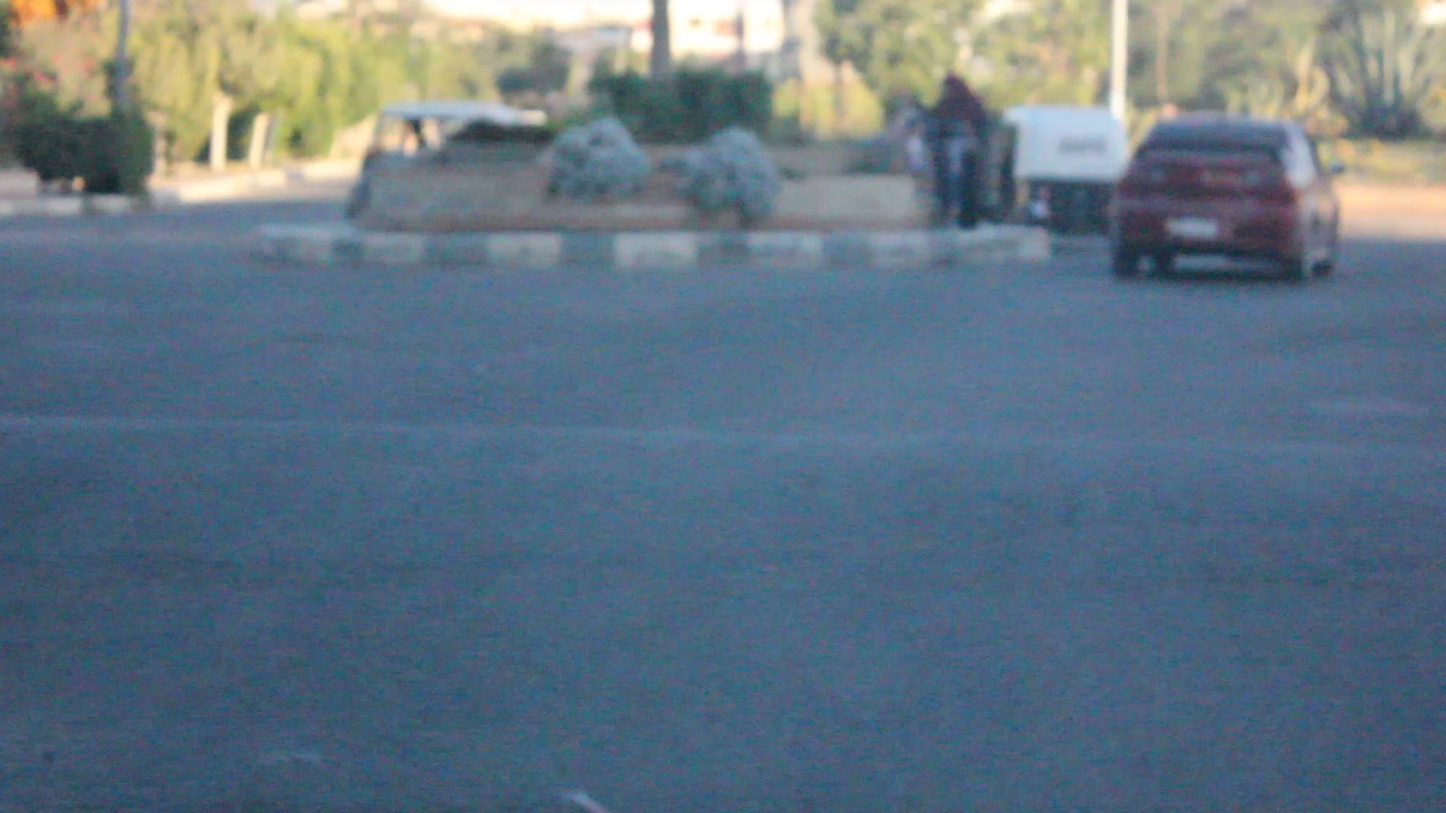Bump: (6, 403, 1446, 600)
